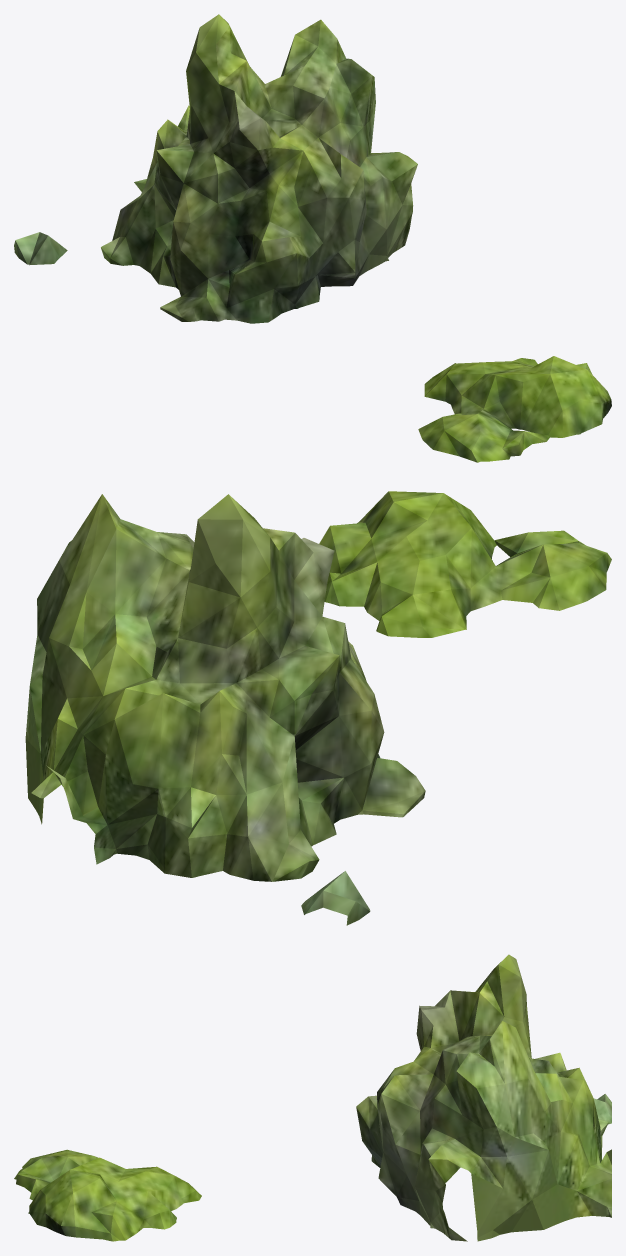
The picture shows the model from 3 angles, top to bottom: view 1: azimuth 30°, elevation 25°; view 2: azimuth 150°, elevation 25°; view 3: azimuth 270°, elevation 25°; orthographic projection. The views are drawn at different scales.
Size of the model in its own units: 11.61 by 8.88 by 21.99.
Materials: 1 (1 with a texture image).
